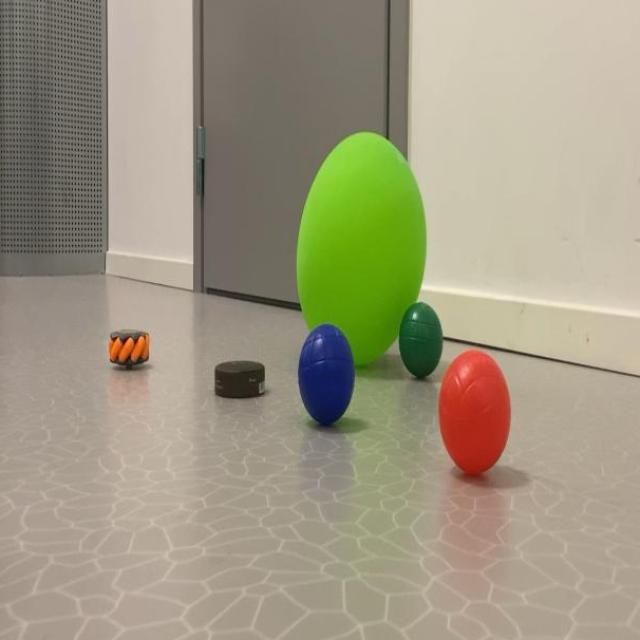blue ball: (288, 331, 355, 431)
green ball: (416, 301, 448, 381)
red ball: (455, 350, 523, 483)
